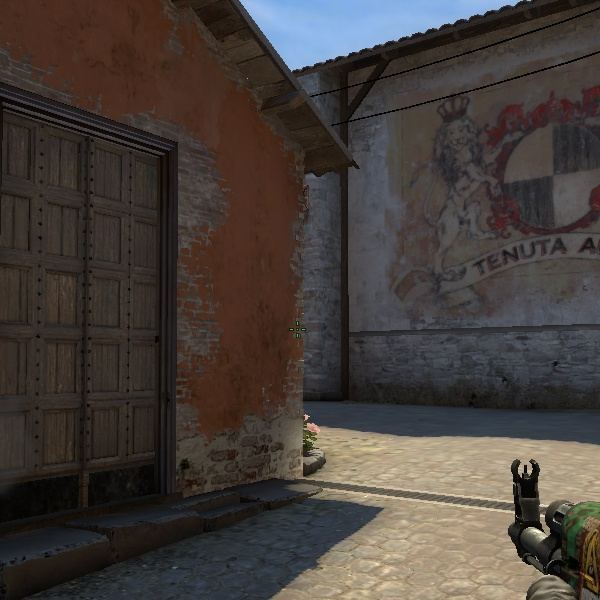ct_body: (296, 411, 327, 478)
